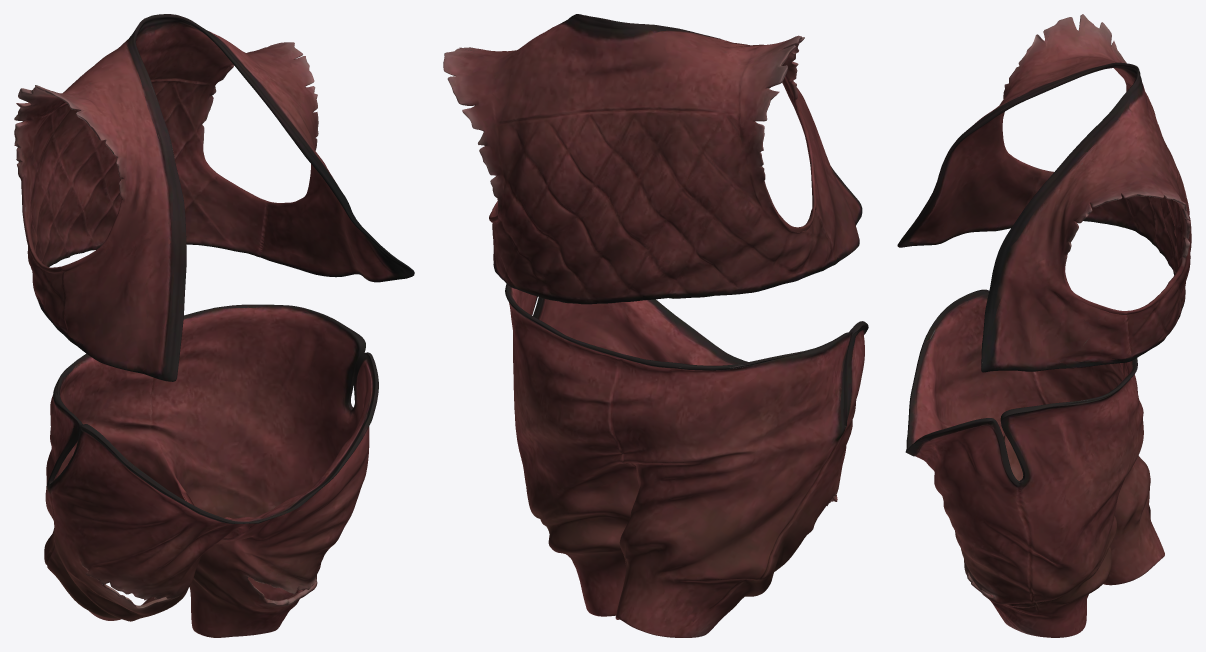
3 views of the same model, side by side, from view 1: azimuth 30°, elevation 25°; view 2: azimuth 150°, elevation 25°; view 3: azimuth 270°, elevation 25° (orthographic). The views are drawn at different scales.
Parts seen in each view (by area): view 1: Kimono; view 2: Kimono; view 3: Kimono.
Part boxes in pixels (x1,y1,x2,y2): Kimono: (14,14,414,637); Kimono: (443,14,868,637); Kimono: (897,14,1191,637).
Bounding box in the file's own units: 0.9907 × 1.63 × 0.8001.
1 material, 1 textured.
